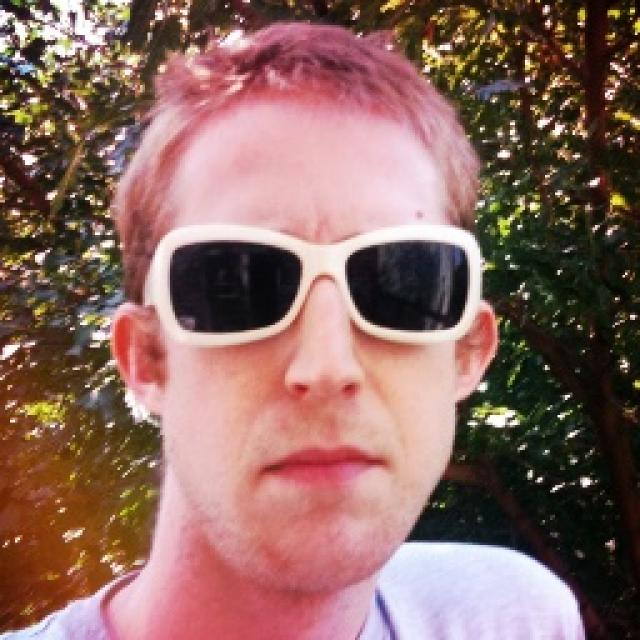earlobe: (138, 376, 168, 416), (453, 364, 481, 404)
eye: (193, 265, 267, 304), (367, 267, 435, 304)
nose: (282, 378, 372, 427)
wholeear: (110, 301, 168, 416), (453, 302, 498, 403)
